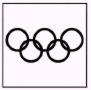Centro desportivo: (2, 3, 89, 90)
